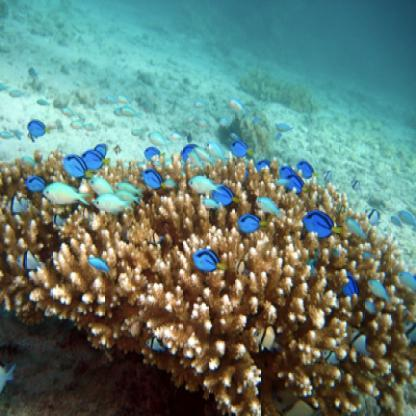surgeon: (303, 208, 345, 241), (192, 248, 229, 275), (63, 156, 92, 183), (142, 167, 169, 191), (26, 118, 52, 141), (24, 176, 51, 194), (231, 140, 256, 159)
